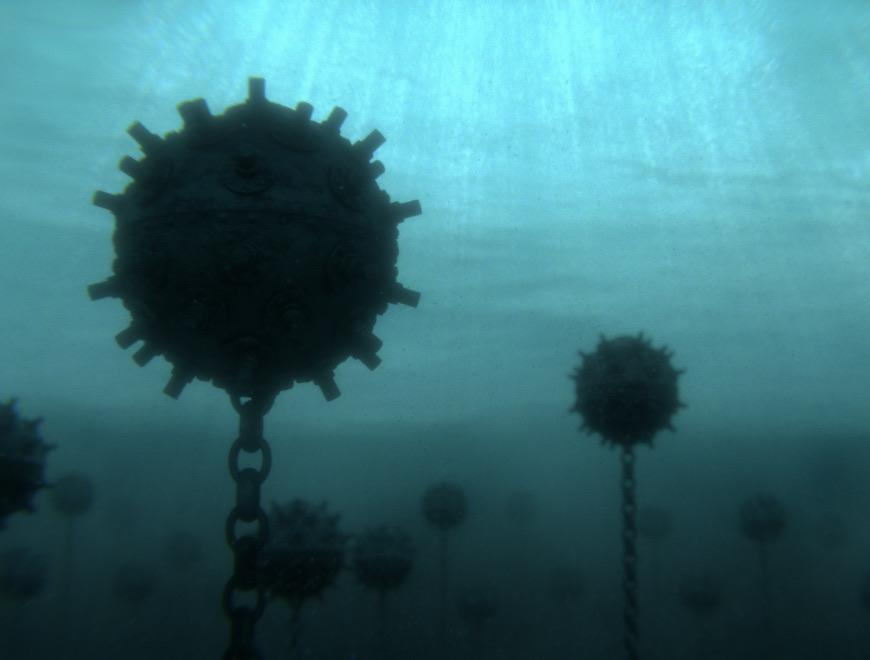Mines: (90, 72, 429, 418), (559, 318, 695, 453), (247, 491, 358, 607), (0, 397, 57, 533), (353, 520, 417, 598), (412, 472, 475, 527), (0, 541, 47, 608), (740, 488, 791, 546), (109, 562, 166, 610), (49, 470, 99, 517)
